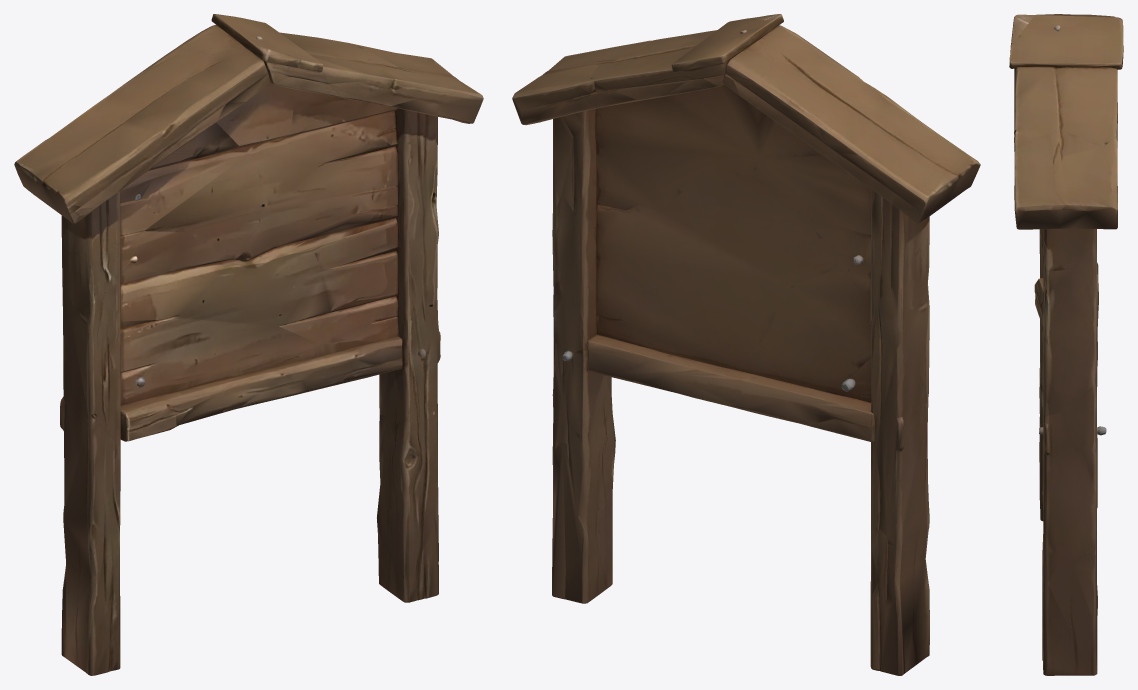
3 renders of one model, left to right at view 1: azimuth 30°, elevation 25°; view 2: azimuth 150°, elevation 25°; view 3: azimuth 270°, elevation 25°, orthographic. The views are drawn at different scales.
Visible parts, largest first — view 1: model; view 2: model; view 3: model.
Boxes of the visible parts, x1,y1,x2,y2 form: model: (14, 14, 483, 675); model: (512, 14, 980, 675); model: (1009, 14, 1123, 675).
Size of the model in its own units: 1.39 by 1.9 by 0.3422.
Materials: 1 (1 with a texture image).
